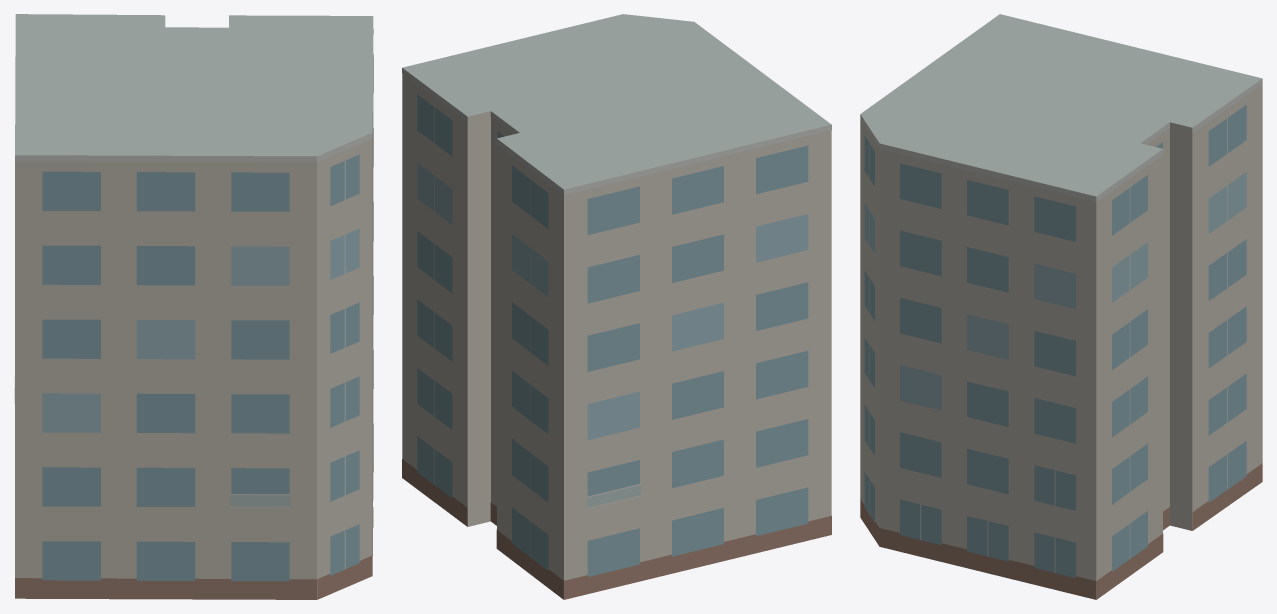
File: survey-upis-32668503.glb
The picture shows the model from 3 angles, left to right: view 1: azimuth 30°, elevation 25°; view 2: azimuth 150°, elevation 25°; view 3: azimuth 270°, elevation 25°; orthographic projection. The views are drawn at different scales.
Visible parts, largest first — view 1: survey-upis-32668503.tmp; view 2: survey-upis-32668503.tmp; view 3: survey-upis-32668503.tmp.
Part boxes in pixels (x1=…): survey-upis-32668503.tmp: x1=14, y1=14, x2=373, y2=599; survey-upis-32668503.tmp: x1=402, y1=14, x2=831, y2=599; survey-upis-32668503.tmp: x1=860, y1=14, x2=1262, y2=599.
Bounding box in the file's own units: 17.48 × 18 × 16.28.
